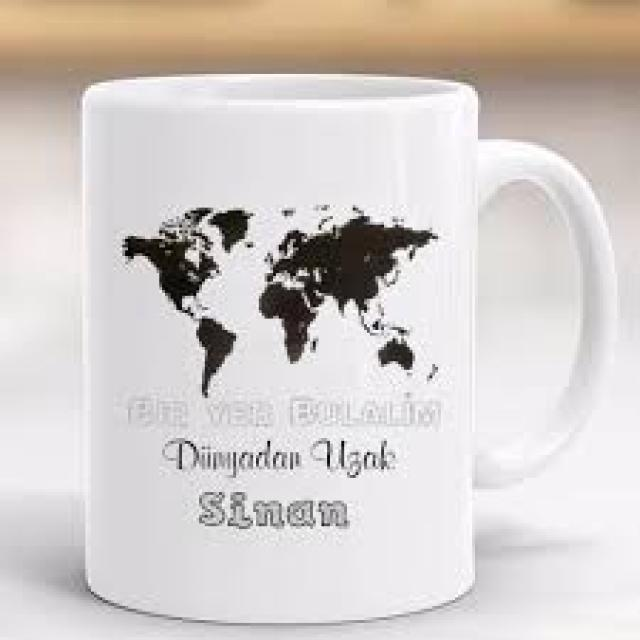taza: (81, 71, 617, 624)
